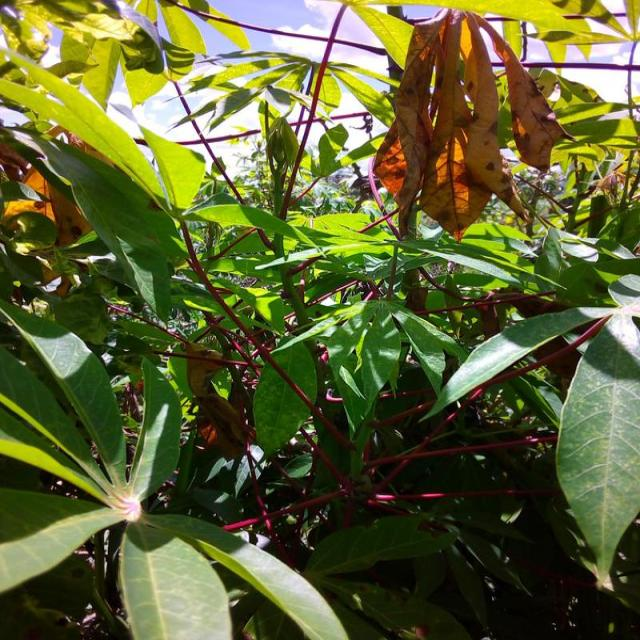cassava leaf: (1, 1, 638, 637), (554, 307, 639, 584), (252, 335, 318, 459)
